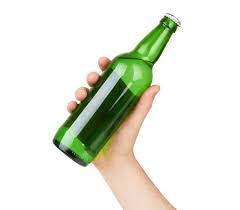beer: (54, 15, 181, 169)
